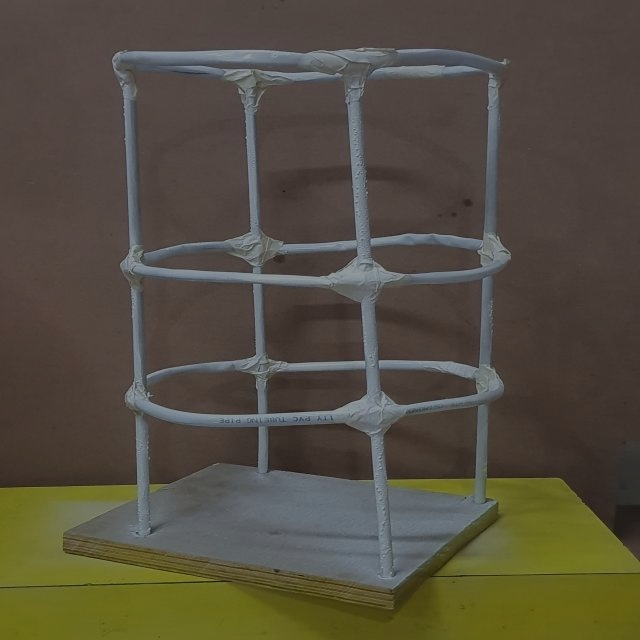silo: (83, 22, 516, 602)
